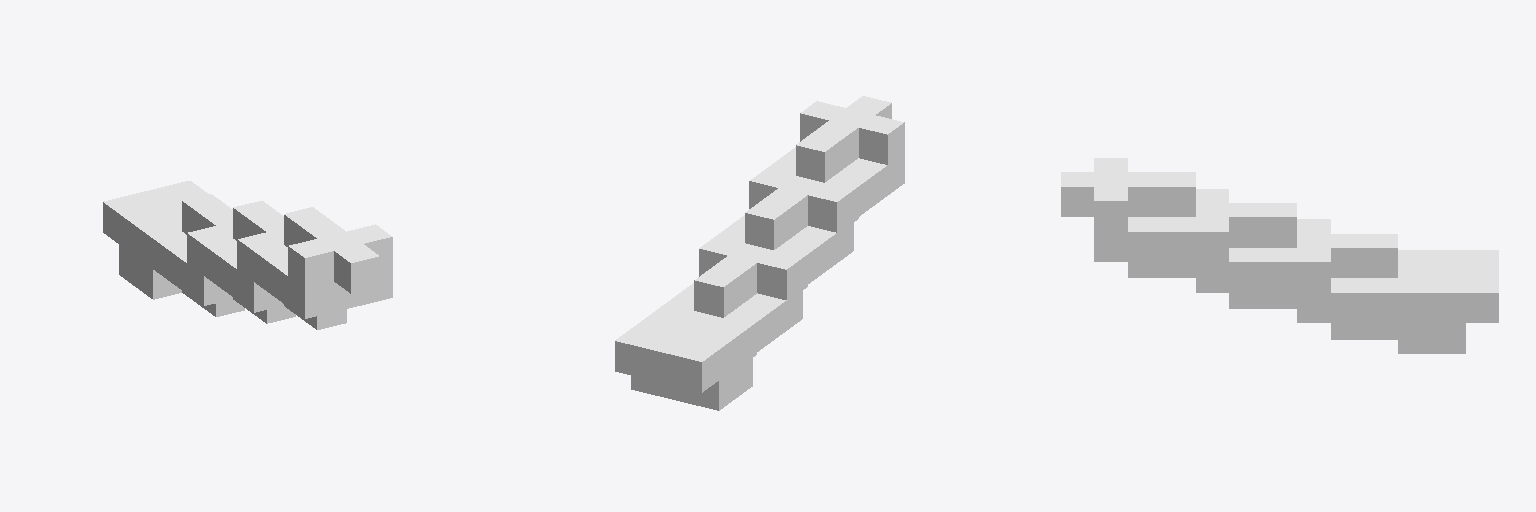
File: Enemy1-8.obj
3 views of the same model, side by side, from view 1: azimuth 30°, elevation 25°; view 2: azimuth 150°, elevation 25°; view 3: azimuth 270°, elevation 25° (orthographic).
Visible parts, largest first — view 1: object 1; view 2: object 1; view 3: object 1.
Part boxes in pixels (left/top/right/bottom): object 1: left=103, top=181, right=392, bottom=329; object 1: left=615, top=96, right=904, bottom=410; object 1: left=1061, top=158, right=1498, bottom=353.
Size of the model in its own units: 0.3 by 0.5 by 1.3.